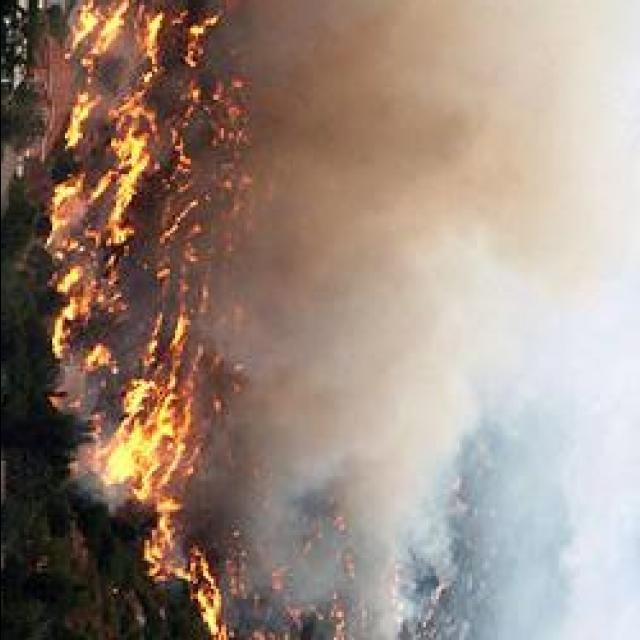fire: (66, 92, 146, 248), (92, 372, 196, 489), (172, 546, 222, 626)
smoke: (232, 234, 445, 528), (241, 0, 461, 185), (247, 532, 425, 632)
